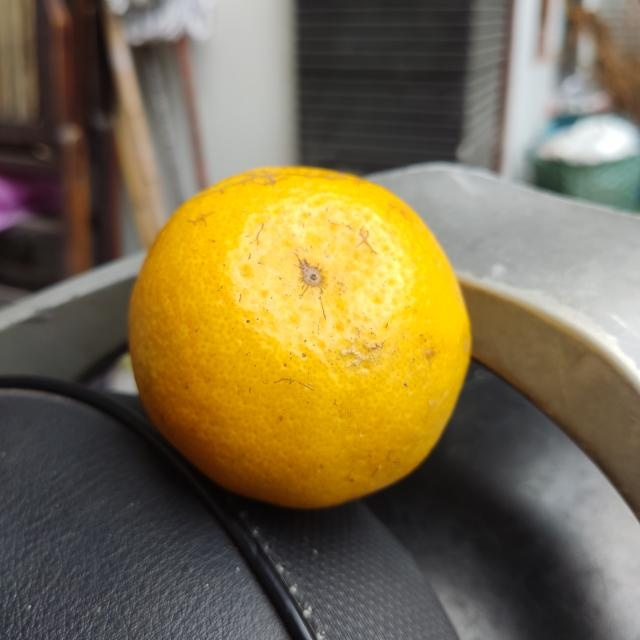agrume: (122, 165, 475, 514)
